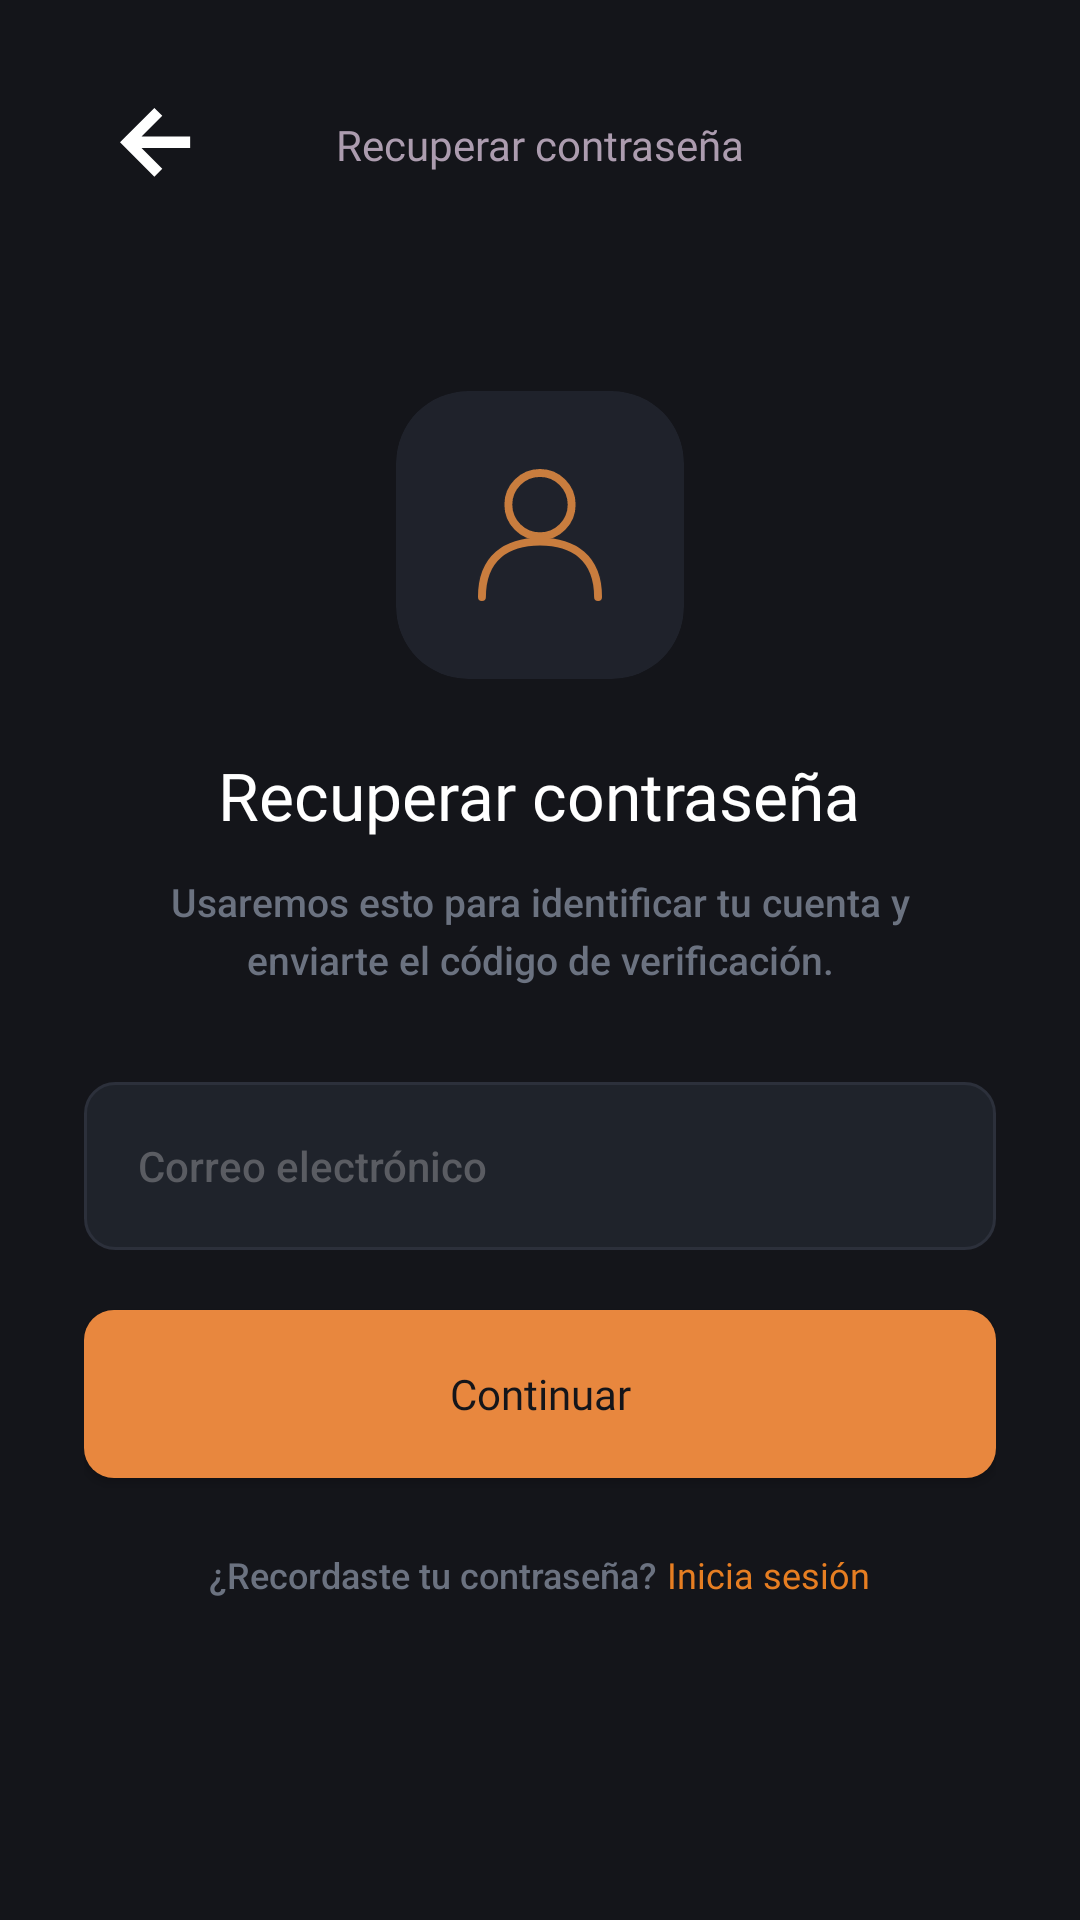

Screen size 1080 × 1920. Icon name, then its box in pixels as rect(x1, y1, x2, y2):
Usuario: rect(478, 469, 602, 601)
Volver: rect(120, 108, 191, 177)
